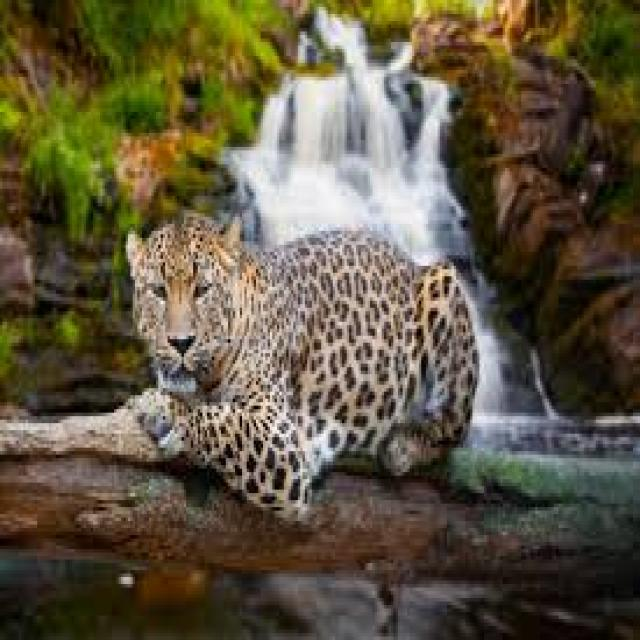Jaguar: (107, 206, 475, 500)
